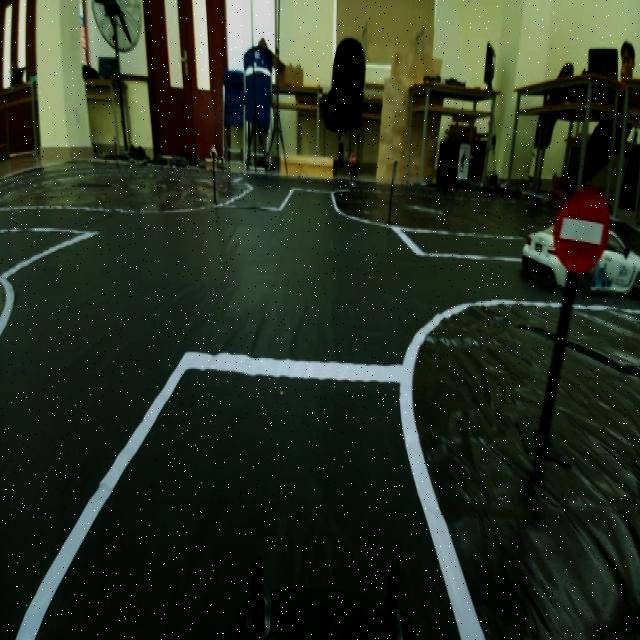no_entry: (548, 185, 610, 270)
